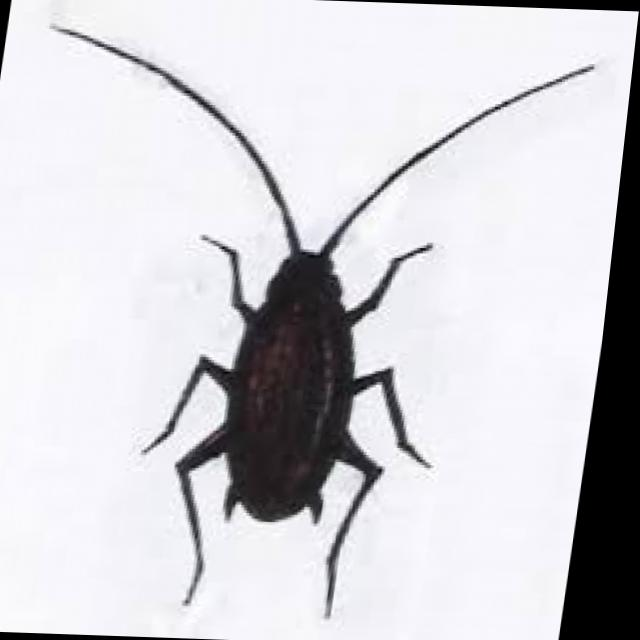Cockroach: (30, 63, 575, 640)
